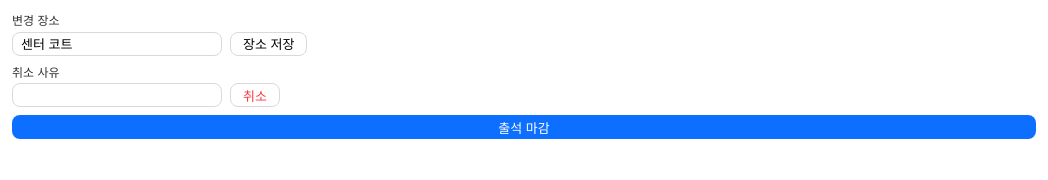
Test case: MeetingLifecycleControls › recovers from a rejected lifecycle action with a safe error
The width and height of the screenshot is (1048, 180).
Click the button with aria-label "1차 정모 장소 저장" at (269,44), box [230, 32, 308, 56]
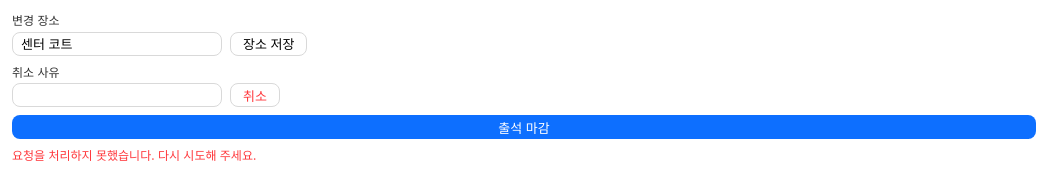
expect the message reads "요청을 처리하지 못했습니다. 다시 시도해 주세요.": met, box [12, 146, 256, 163]
